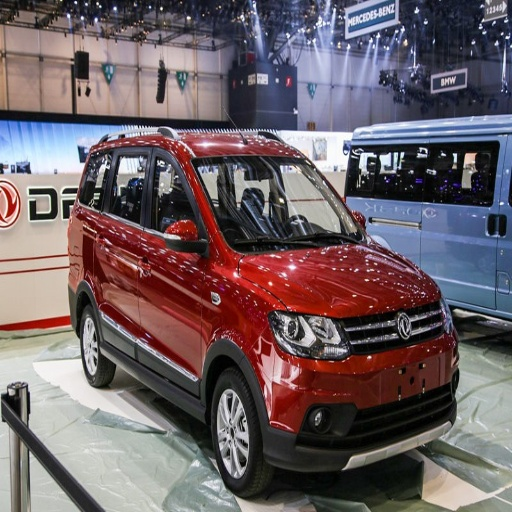front_bumper: (262, 305, 458, 470)
front_right_door: (138, 145, 211, 395)
front_right_light: (269, 309, 348, 360)
